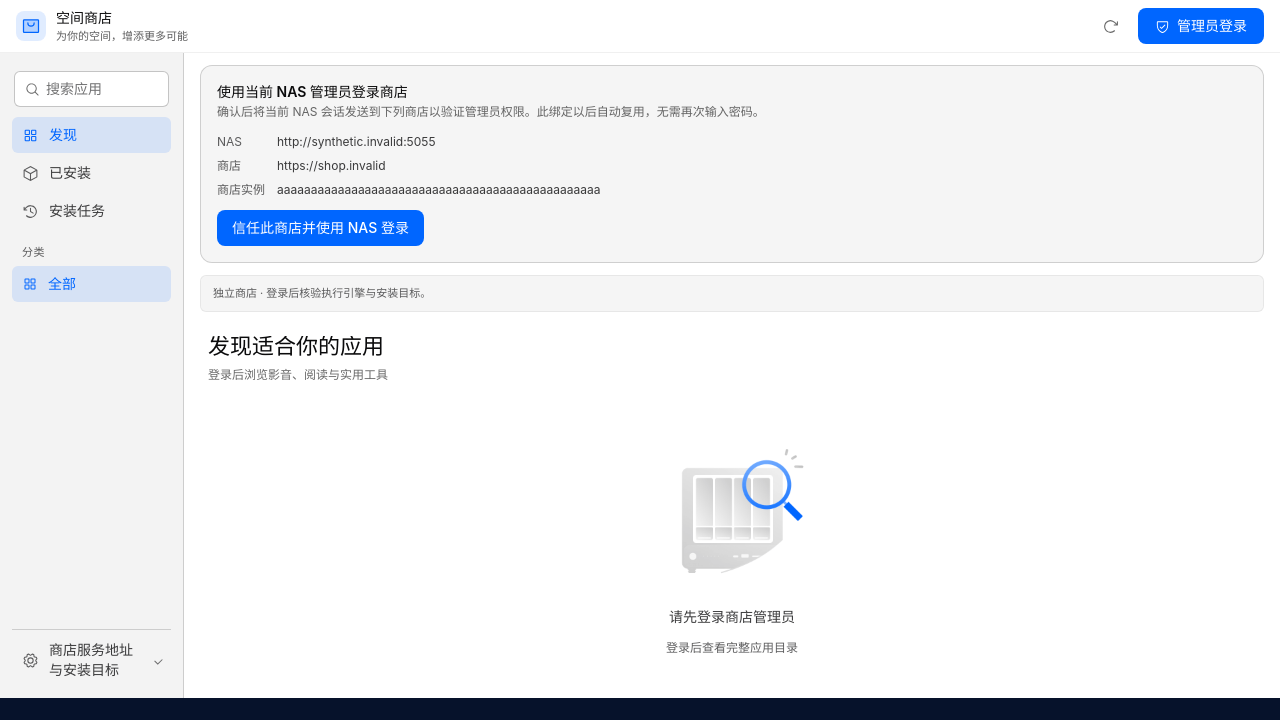
Test: embedded entry shows both exact trust destinations and exchanges only after explicit pairing
The width and height of the screenshot is (1280, 720).
Check: the text "http://synthetic.invalid:5055" is shown, box [277,134,436,149]
Check: the text "https://shop.invalid" is shown, box [277,158,386,173]
What coordinates should you click on to do the following:
click the button "信任此商店并使用 NAS 登录"
I would click on:
 (320, 228)
Its box is [217,210,424,246].
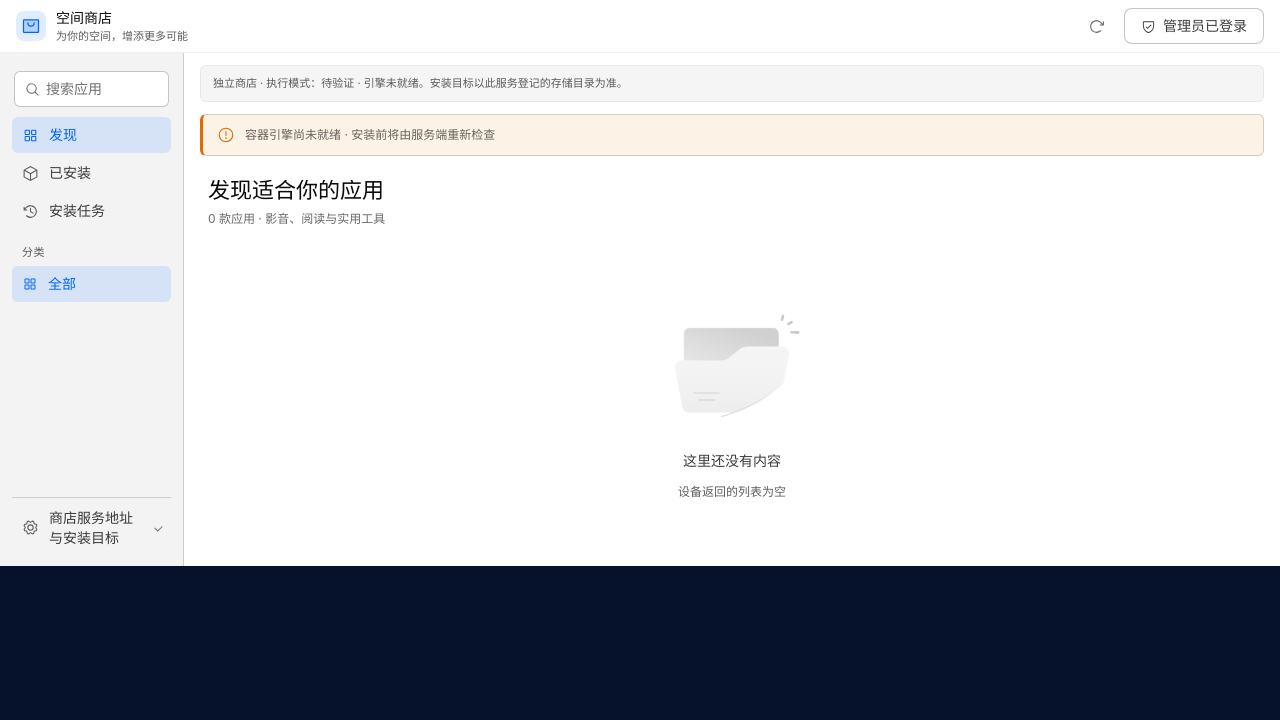
Check: the text labelled "密码" is gone
